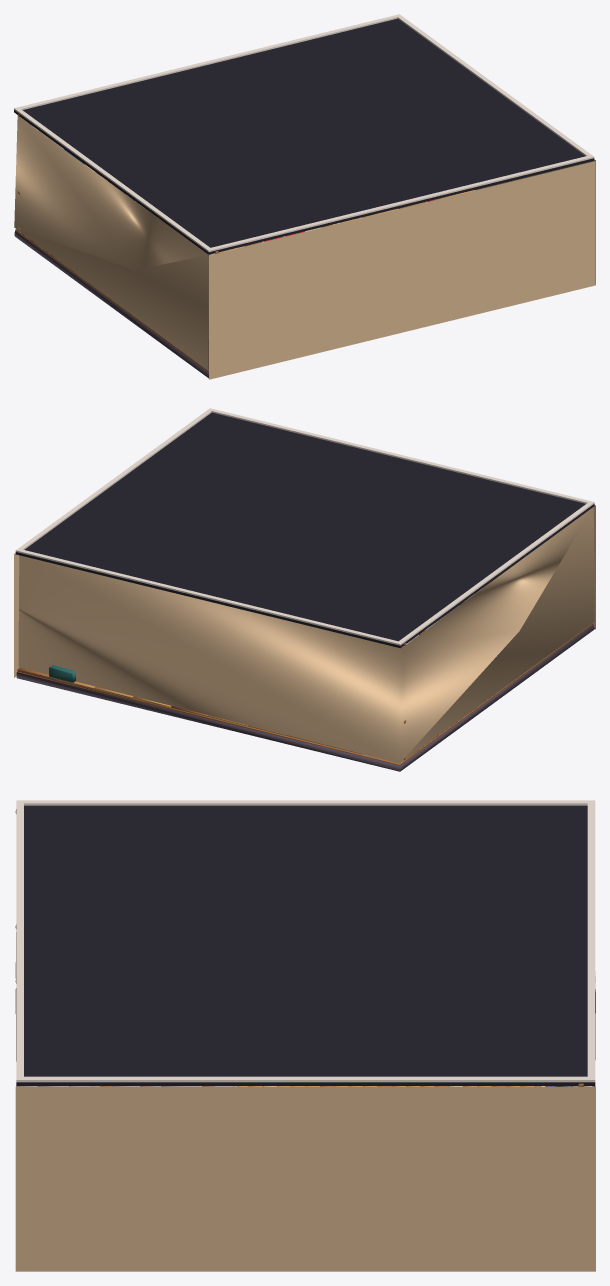
3 views of the same model, one above another, from view 1: azimuth 30°, elevation 25°; view 2: azimuth 150°, elevation 25°; view 3: azimuth 270°, elevation 25° (orthographic). The views are drawn at different scales.
Visible parts, largest first — view 1: roof_pal_uiDark, roof_pal_canvasTan, interior, roof_pal_picketWhite; view 2: interior, roof_pal_uiDark, roof_pal_picketWhite, roof_pal_canvasTan; view 3: roof_pal_uiDark, roof_pal_canvasTan, roof_pal_picketWhite, interior.
Part boxes in pixels (x1,y1,x2,y2): roof_pal_uiDark: [14, 18, 594, 254]; roof_pal_canvasTan: [209, 159, 595, 379]; interior: [14, 114, 475, 378]; roof_pal_picketWhite: [14, 14, 594, 251]; interior: [16, 507, 594, 771]; roof_pal_uiDark: [15, 412, 594, 648]; roof_pal_picketWhite: [15, 408, 594, 645]; roof_pal_canvasTan: [14, 505, 595, 677]; roof_pal_uiDark: [16, 805, 595, 1085]; roof_pal_canvasTan: [15, 1086, 595, 1271]; roof_pal_picketWhite: [16, 800, 595, 1082]; interior: [15, 809, 595, 1086].
Size of the model in its own units: 16.04 by 5.08 by 14.04.
